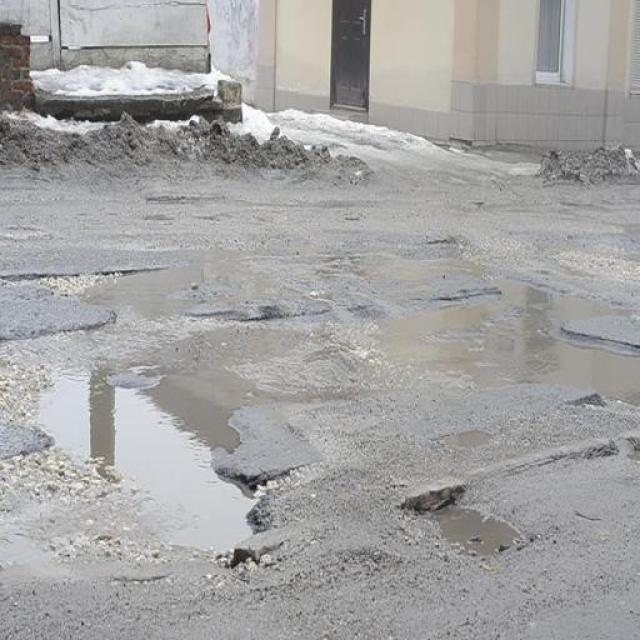puddle: (35, 360, 265, 548), (373, 295, 637, 424)
